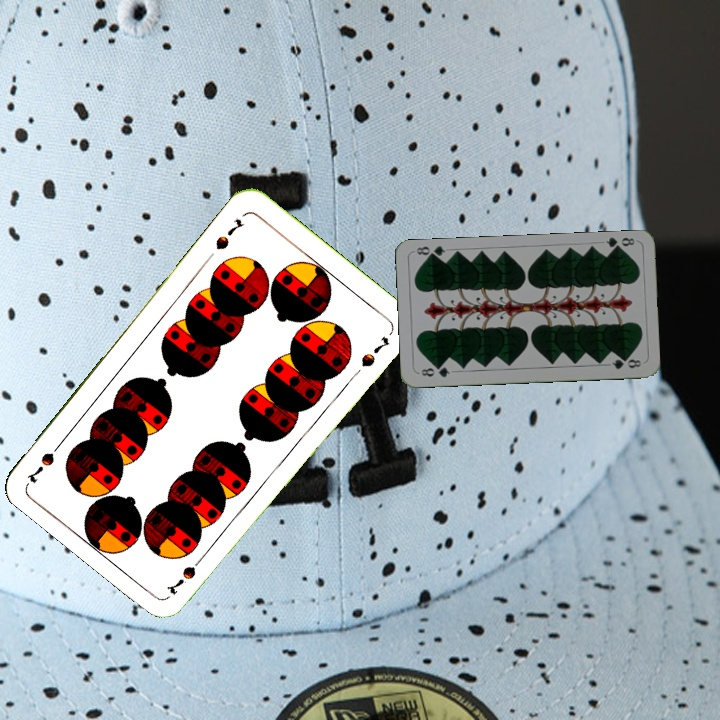G8: (602, 233, 637, 254), (417, 362, 452, 380)
S7: (164, 549, 209, 598), (211, 214, 246, 253)
